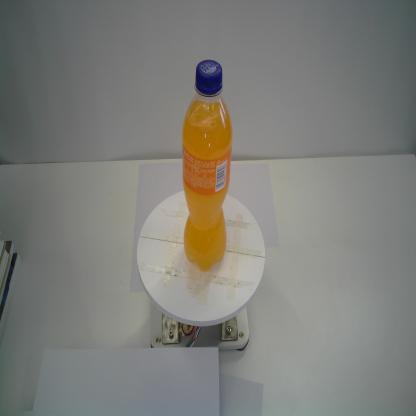Drink: (180, 56, 235, 273)
